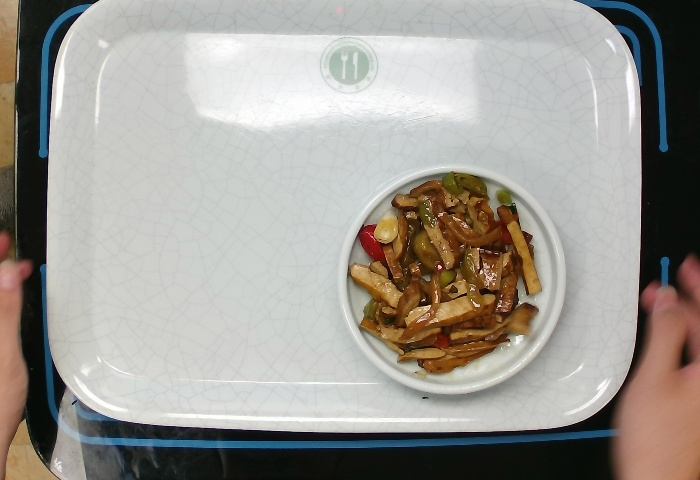JYsf-Xiao_Yuan_Pan: (335, 162, 570, 397)
